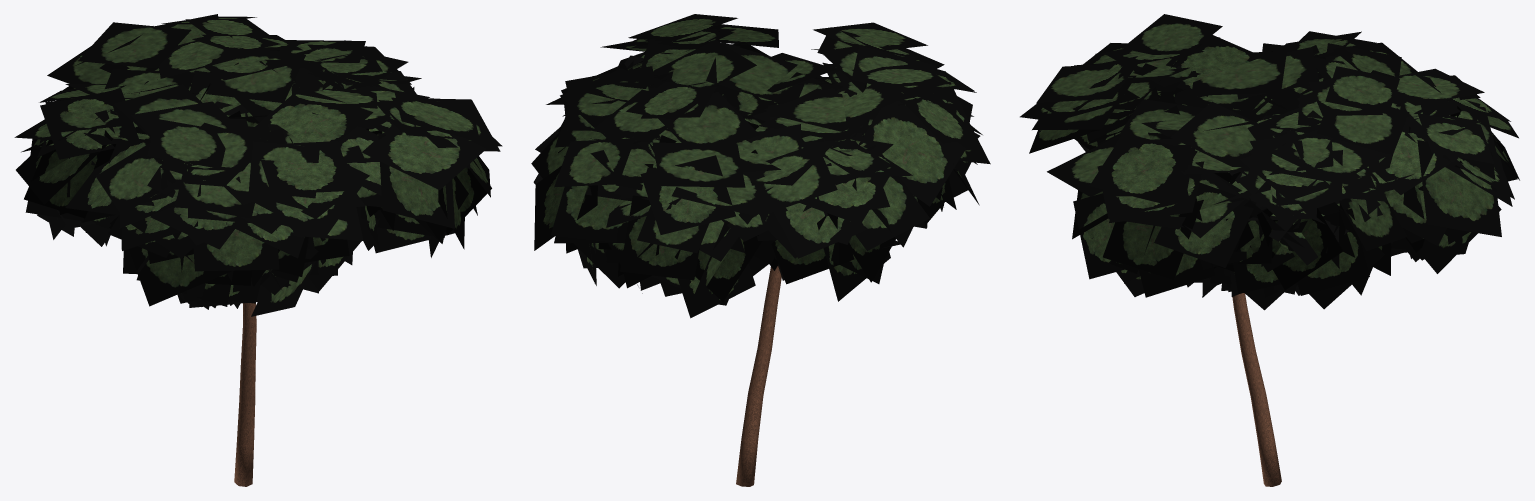
The model's file is SM_Morin_PinoDomestico_LOD1.fbx.
3 views of the same model, side by side, from view 1: azimuth 30°, elevation 25°; view 2: azimuth 150°, elevation 25°; view 3: azimuth 270°, elevation 25° (orthographic).
Parts seen in each view (by area): view 1: SM_Morin_PinoDomestico_LOD1; view 2: SM_Morin_PinoDomestico_LOD1; view 3: SM_Morin_PinoDomestico_LOD1.
Boxes of the visible parts, x1,y1,x2,y2 form: SM_Morin_PinoDomestico_LOD1: (14, 14, 502, 486); SM_Morin_PinoDomestico_LOD1: (531, 14, 990, 486); SM_Morin_PinoDomestico_LOD1: (1020, 14, 1519, 486).
Bounding box in the file's own units: 1726 × 1925 × 1768.
Materials: 2 (2 with a texture image).
